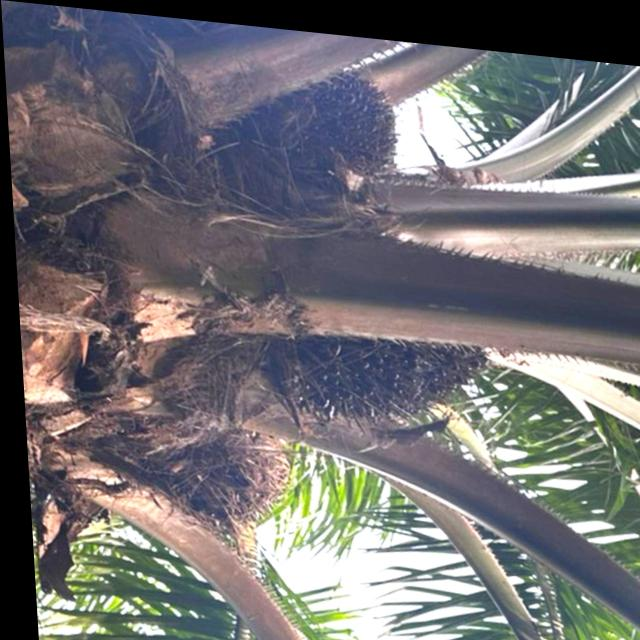almost: (255, 292, 498, 451)
